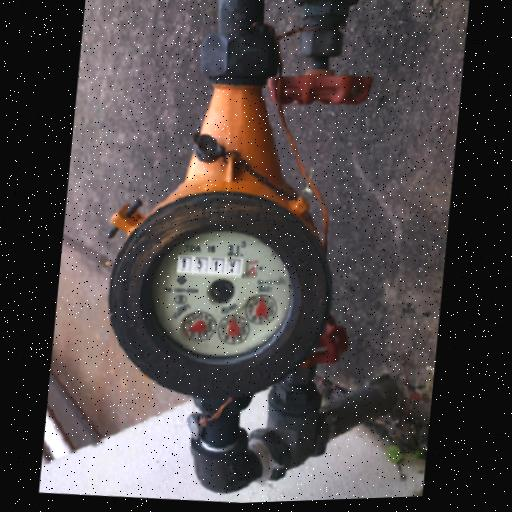0: (227, 259, 241, 275)
1: (179, 256, 192, 272), (211, 258, 224, 274)
4: (245, 260, 257, 277)
5: (195, 257, 208, 273)
border_water_meter_number: (175, 252, 259, 281)
